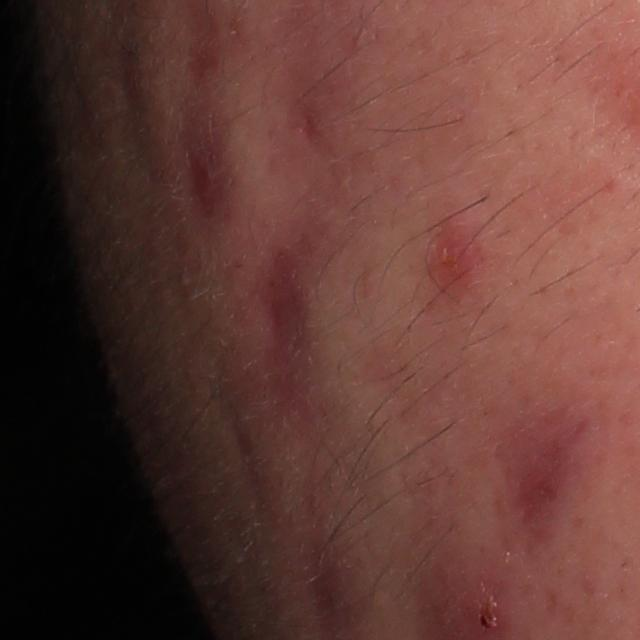papule: (424, 210, 500, 297)
